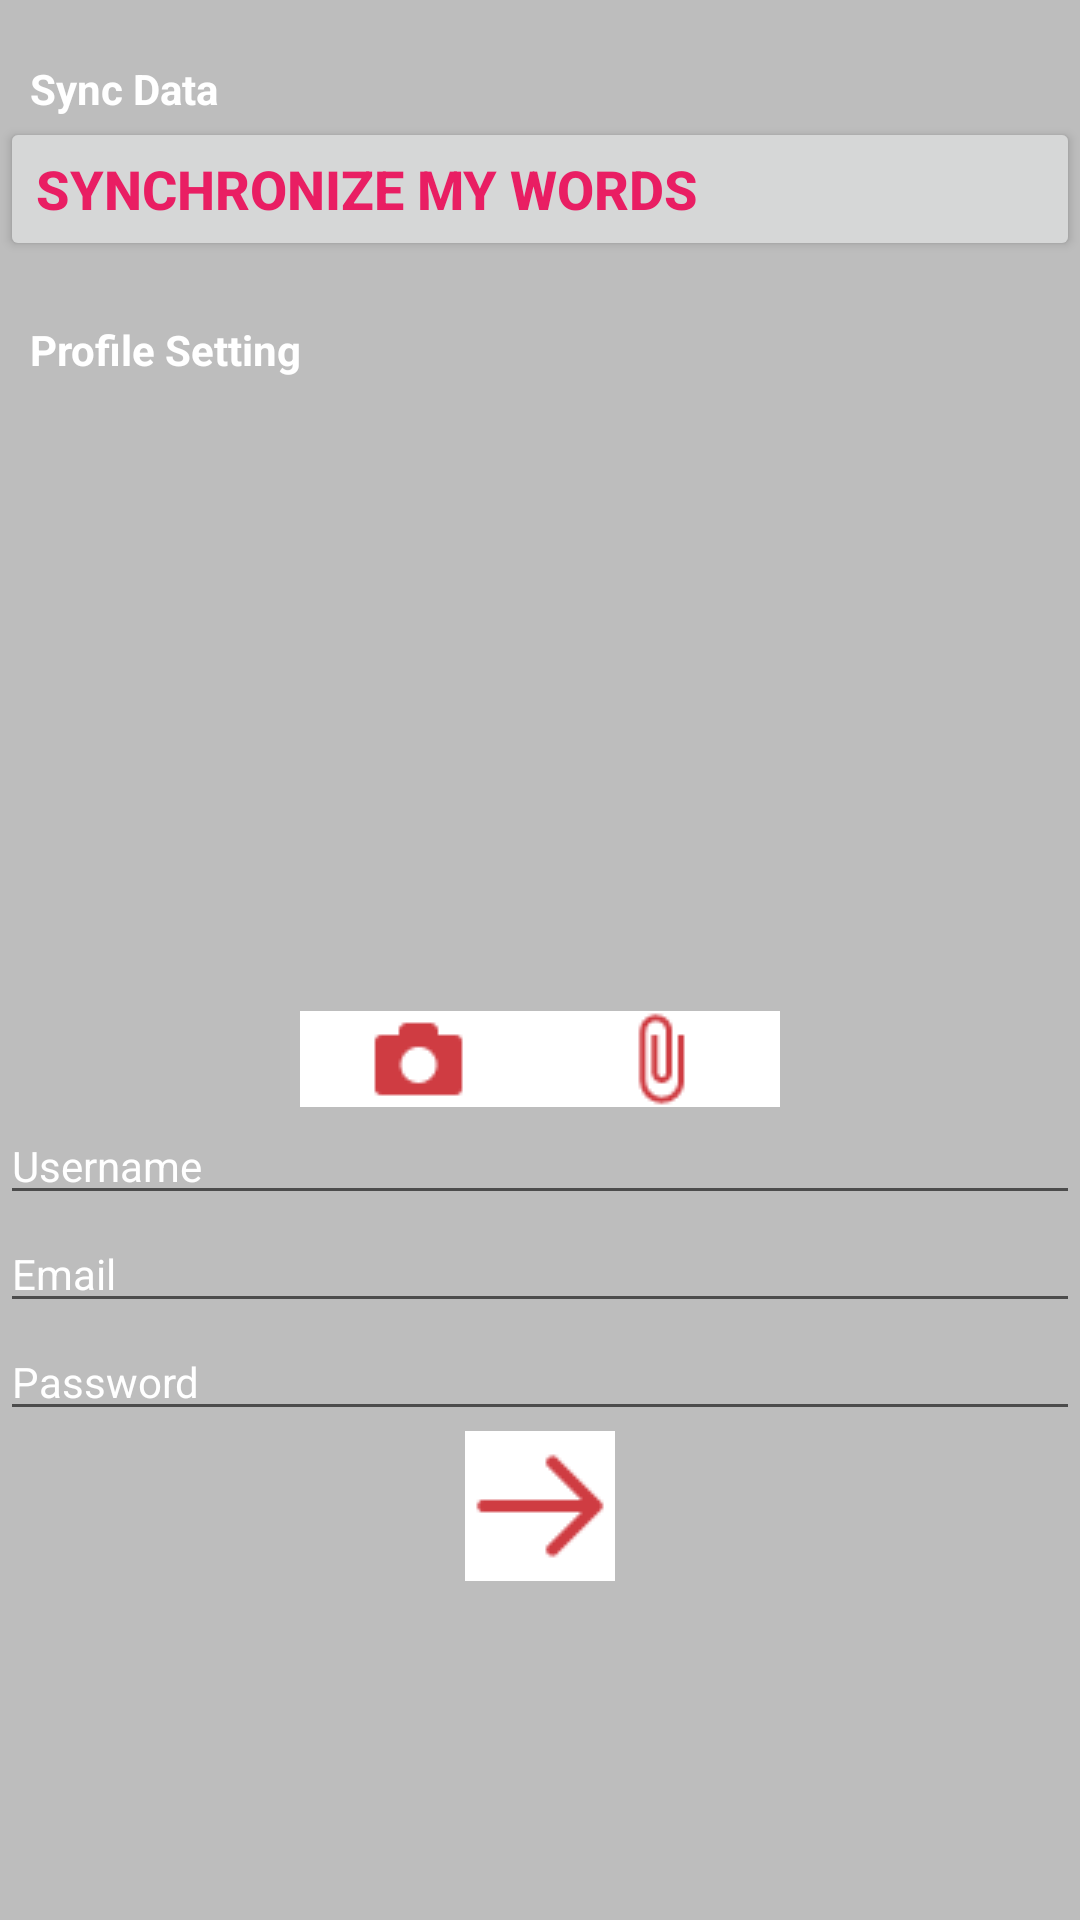

Where to tap for icons on this 1080*1920 app screen, as [x,y]:
Confirm: [540,1506]
